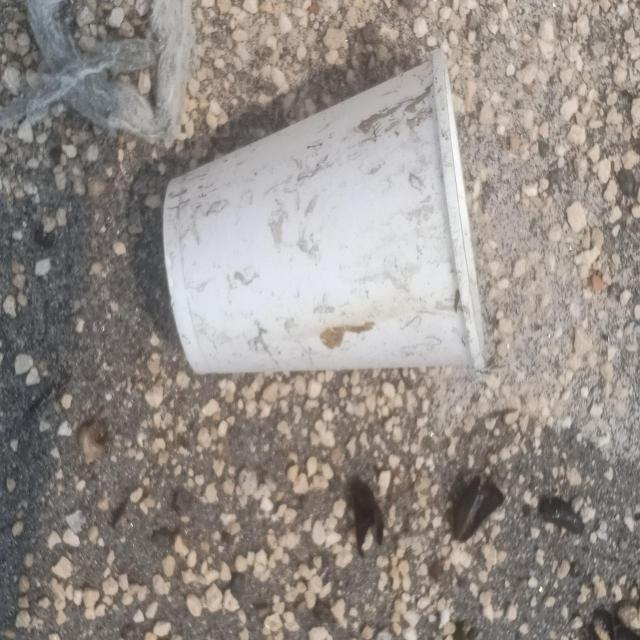styrofoam_waste: (163, 48, 488, 376)
